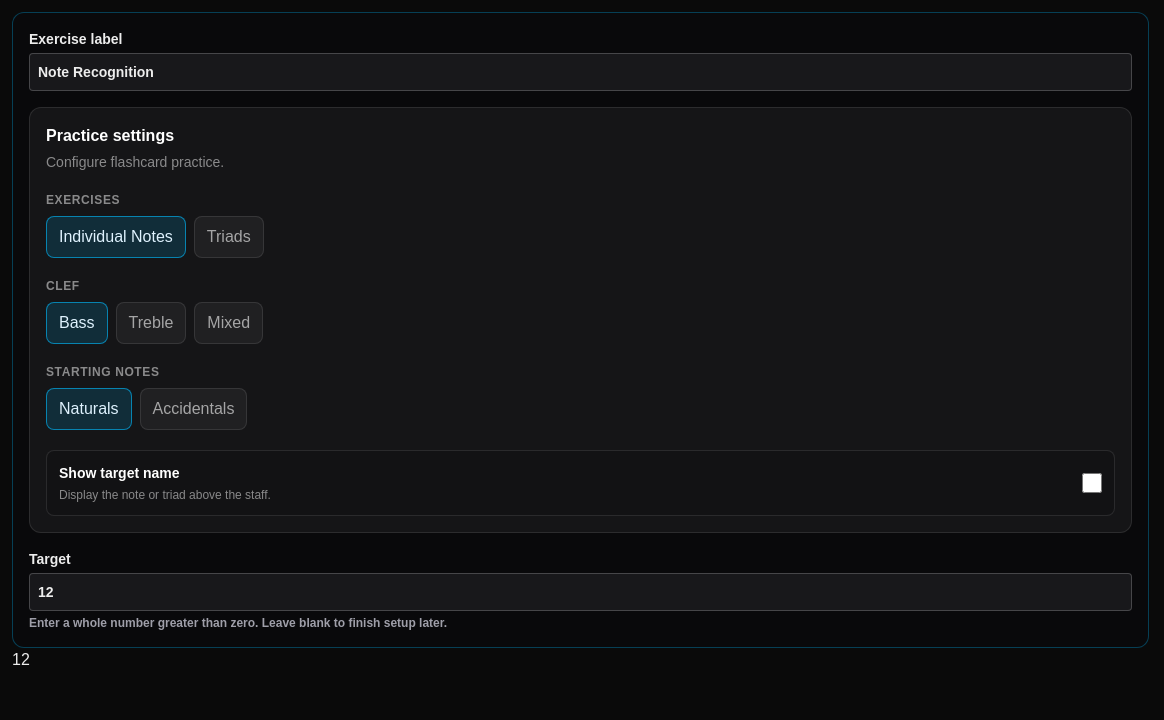
Scenario: Practice Session exercise editor › restores an invalid numeric target from the committed count on blur
The width and height of the screenshot is (1164, 720).
Replace the text in the number field labelled "Target" with "1.5" at (580, 592), box x1=29 y1=573 x2=1132 y2=611
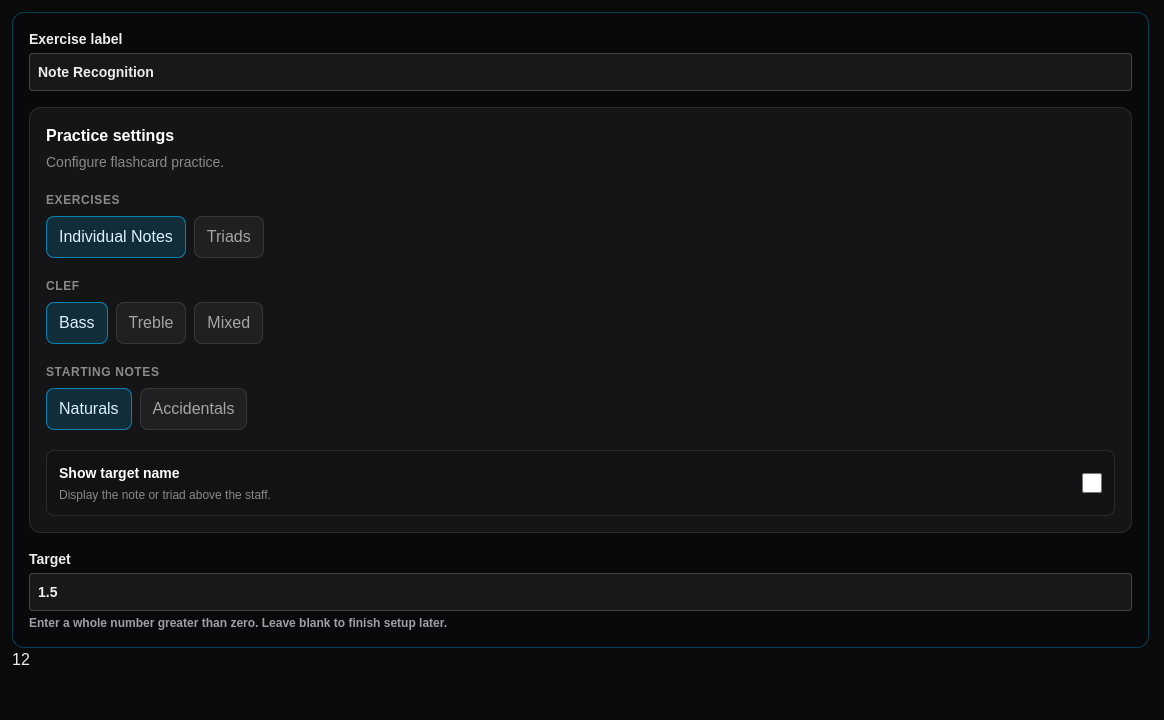
Leave the number field labelled "Target", box x1=29 y1=573 x2=1132 y2=611
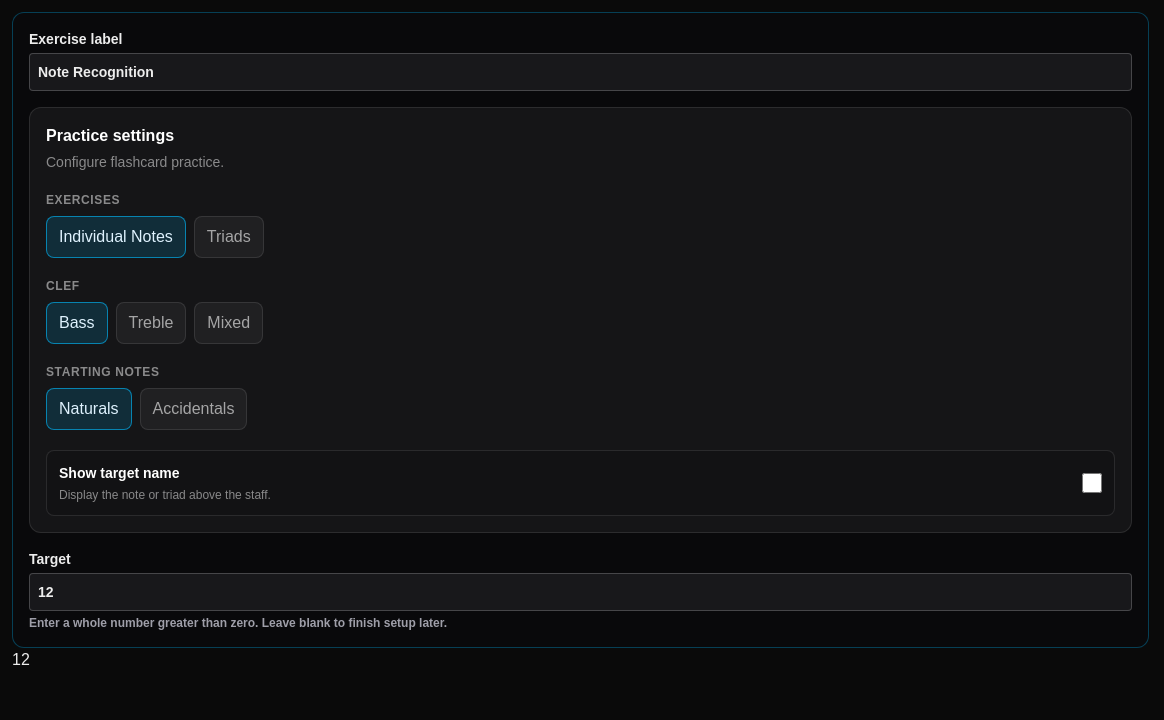
Expected: the number field labelled "Target" holds "12", x1=29 y1=573 x2=1132 y2=611
